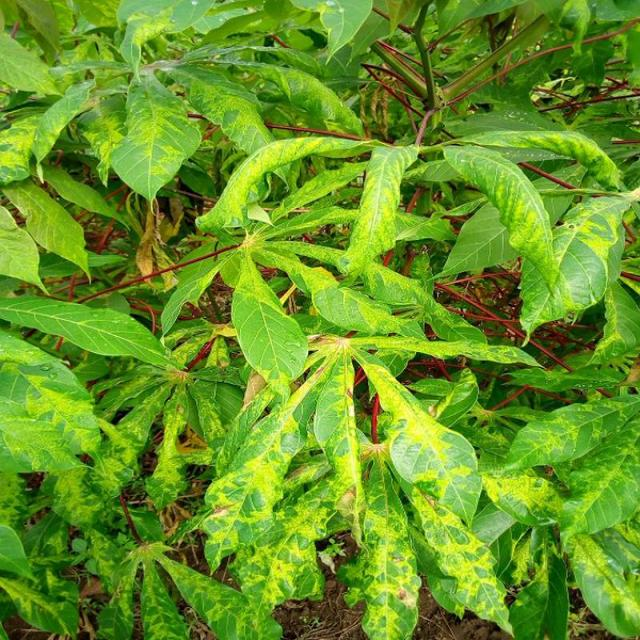Mosaico: (259, 319, 503, 612), (58, 348, 349, 513), (247, 118, 614, 245), (9, 491, 311, 632), (43, 47, 360, 176)
